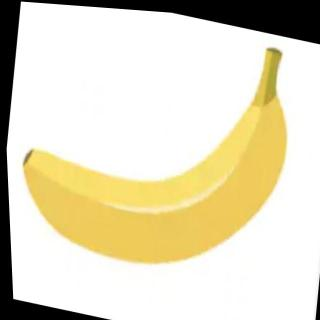banana: (4, 46, 299, 296)
